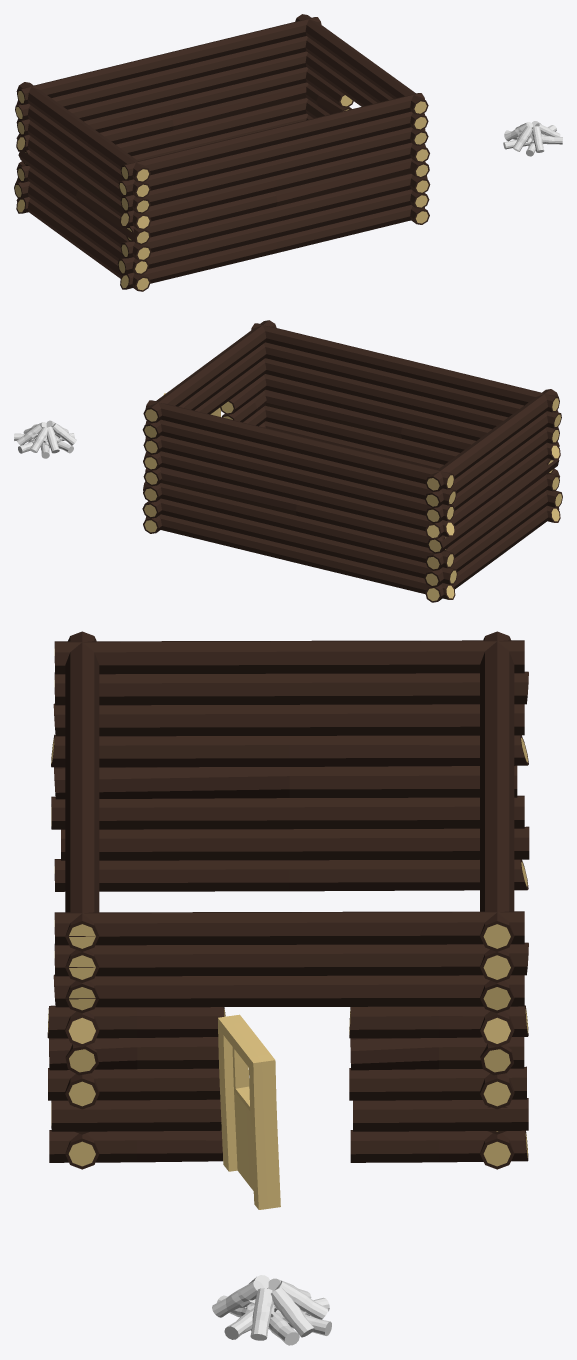
The model's file is Hütte.fbx.
3 renders of one model, top to bottom at view 1: azimuth 30°, elevation 25°; view 2: azimuth 150°, elevation 25°; view 3: azimuth 270°, elevation 25°, orthographic. The views are drawn at different scales.
Parts seen in each view (by area): view 1: Cylinder, Cylinder.002; view 2: Cylinder, Cylinder.002; view 3: Cylinder, Cylinder.001, Cylinder.002.
Boxes of the visible parts, x1=… form: Cylinder: x1=14, y1=14, x2=430, y2=291; Cylinder.002: x1=503, y1=121, x2=562, y2=156; Cylinder: x1=142, y1=320, x2=562, y2=602; Cylinder.002: x1=14, y1=420, x2=76, y2=458; Cylinder: x1=47, y1=631, x2=529, y2=1169; Cylinder.001: x1=218, y1=1014, x2=280, y2=1209; Cylinder.002: x1=212, y1=1275, x2=331, y2=1345.
Bounding box in the file's own units: 3002 × 736 × 1289.
